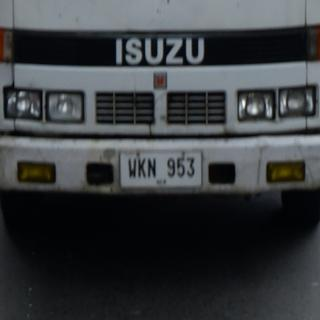license: (121, 153, 202, 189)
